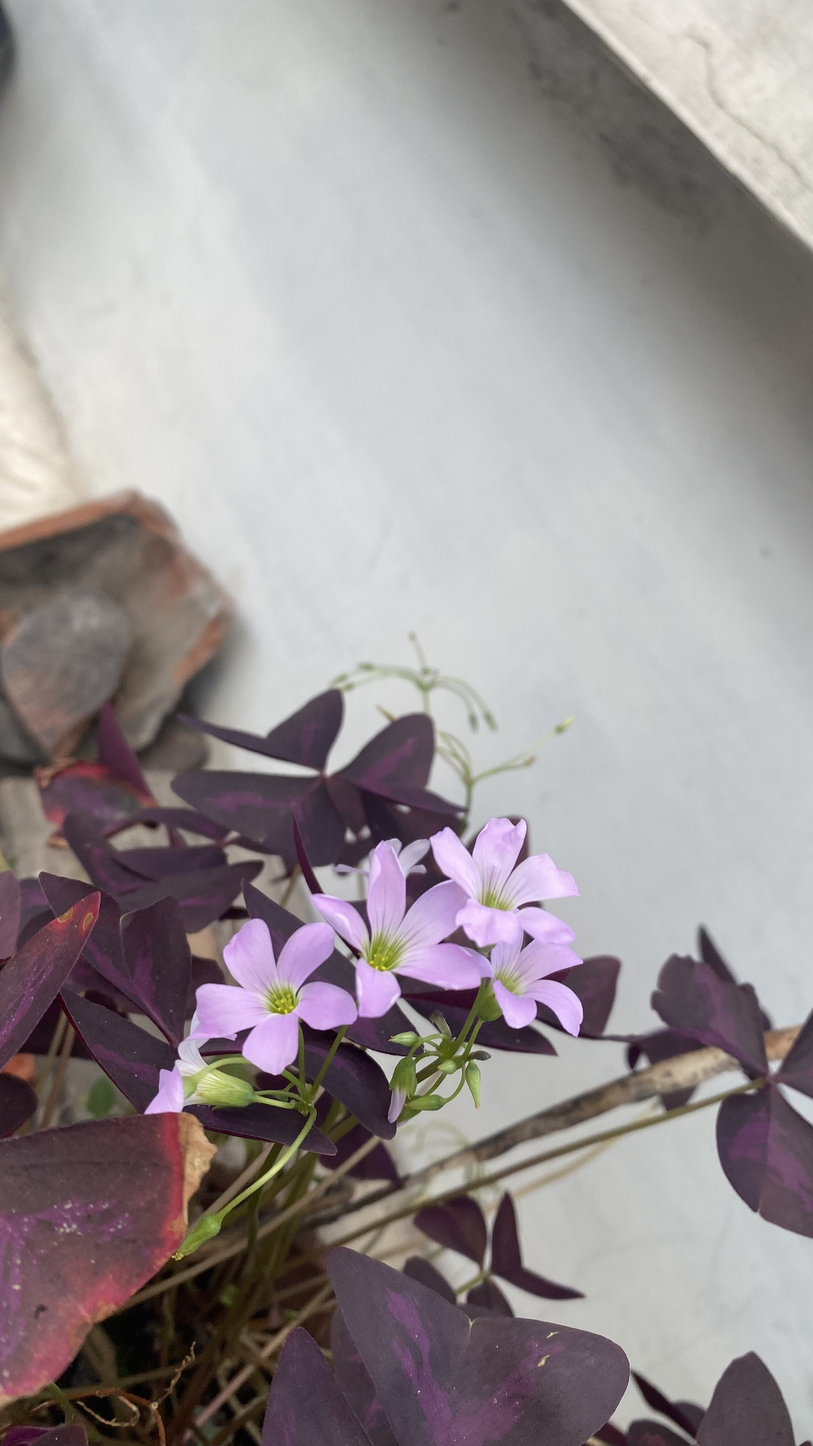butterfly flower: (108, 741, 570, 1019), (268, 1228, 745, 1446), (0, 864, 135, 1358), (632, 939, 813, 1251)
